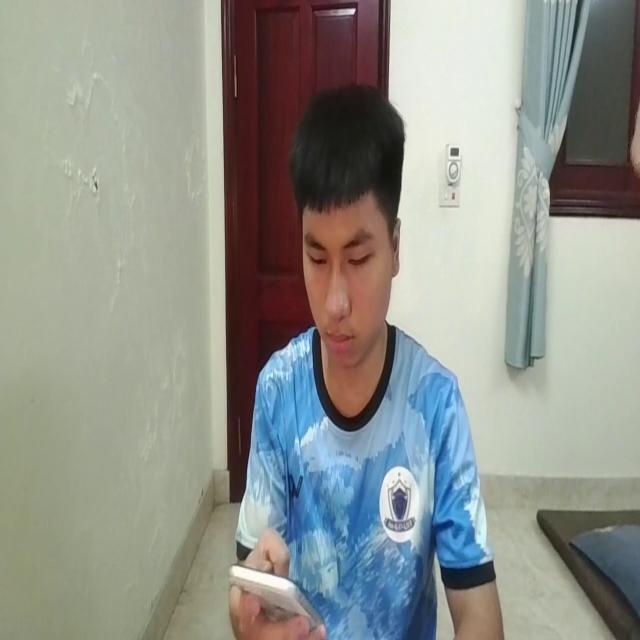phone: (230, 555, 320, 640)
student: (226, 68, 502, 640)
